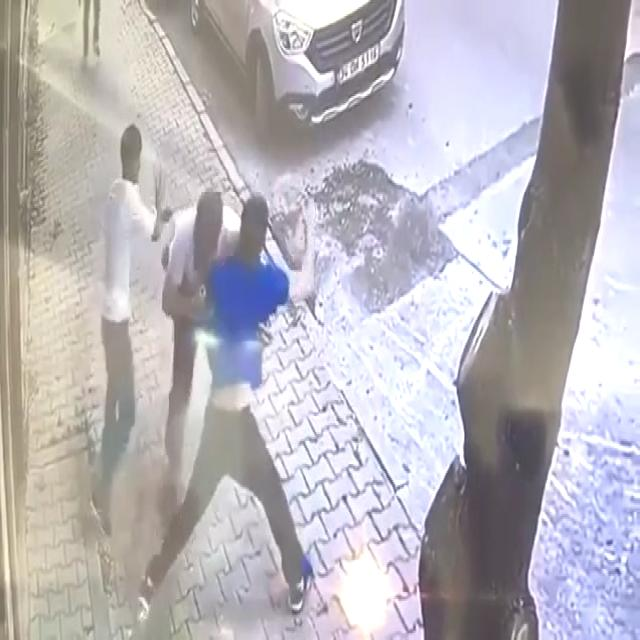fight: (165, 194, 321, 616), (100, 117, 213, 536)
